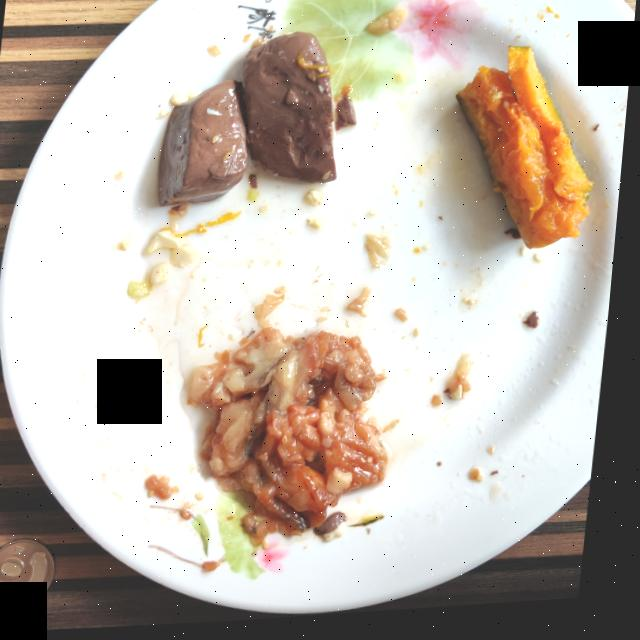Kabayaki sea bream fillet: (197, 331, 397, 549)
coin: (0, 541, 65, 608)
pig blood curd: (161, 36, 340, 208)
pumpkin: (458, 54, 597, 255)
